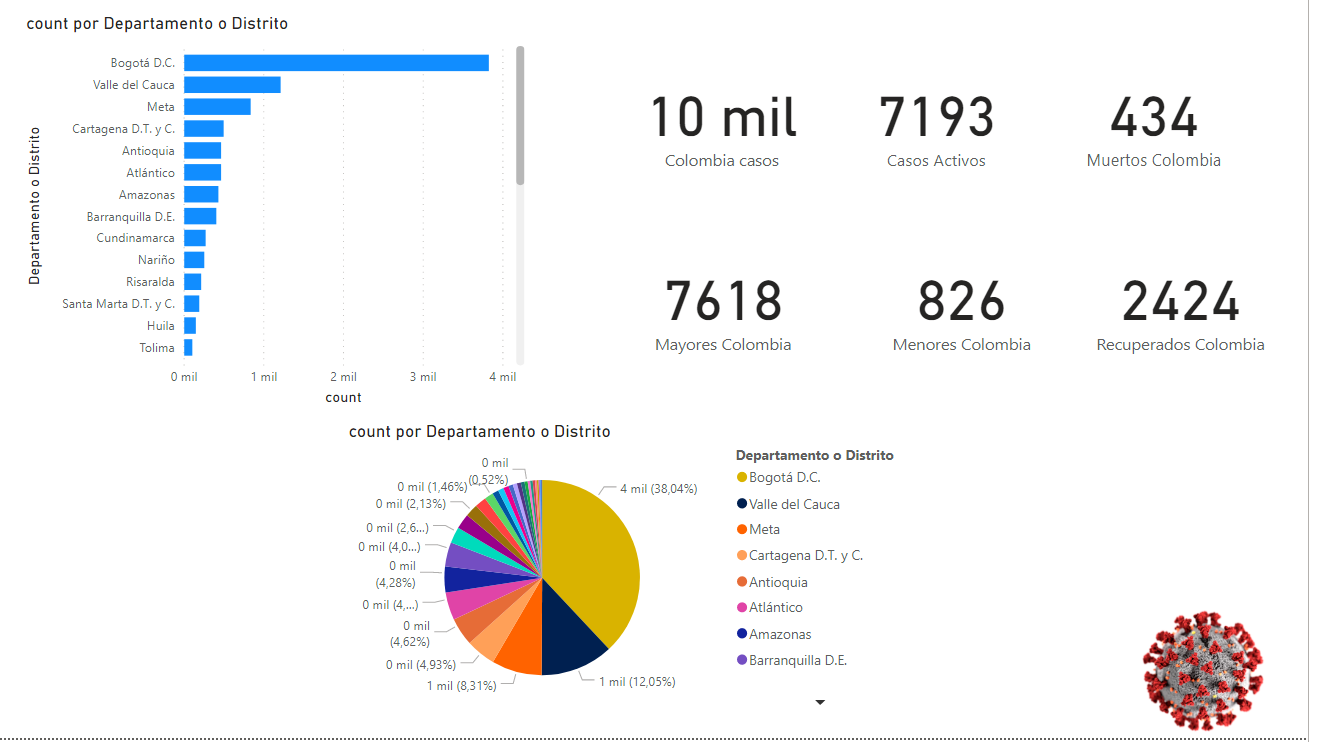

Layout of this report page (visuals, bound fields, positions):
{"tool":"powerbi","page":{"name":"Colombia2","canvas":[1280,720],"ordinal":5},"visuals":[{"type":"barChart","fields":{"Y":["Sum(part-00000-6f44a73a-26a0-45bd-96ed-7d20700f8d72-c000.count)"],"Category":["part-00000-6f44a73a-26a0-45bd-96ed-7d20700f8d72-c000.Departamento o Distrito"]},"box":[29.2,14.6,494.7,386.6],"z":0},{"type":"card","fields":{"Values":["Colombia.Casos Activos"]},"box":[822.9,46.2,193.3,145.9],"z":1000},{"type":"card","fields":{"Values":["Colombia.Colombia casos"]},"box":[609,46.2,203,145.9],"z":2000},{"type":"card","fields":{"Values":["Colombia.Muertos Colombia"]},"box":[982.2,43.8,297.8,149.5],"z":3000},{"type":"card","fields":{"Values":["Colombia.Mayores Colombia"]},"box":[610.2,224.9,203,145.9],"z":4000},{"type":"card","fields":{"Values":["Colombia.Menores Colombia"]},"box":[842.4,224.9,203,145.9],"z":5000},{"type":"card","fields":{"Values":["Colombia.Recuperados Colombia"]},"box":[1055.1,224.9,203,145.9],"z":6000},{"type":"pieChart","fields":{"Category":["part-00000-6f44a73a-26a0-45bd-96ed-7d20700f8d72-c000.Departamento o Distrito"],"Y":["Sum(part-00000-6f44a73a-26a0-45bd-96ed-7d20700f8d72-c000.count)"]},"box":[342.8,410.9,548.2,286.9],"z":7000},{"type":"image","box":[1077,589.6,203,130.1],"z":8000}]}

Visuals, with their boxes in screenshot pixels (x1, y1, x2, y2), scaled from the page's 1280x720 canvas onto the 1318x742 screenshot:
barChart - Sum(part-00000-6f44a73a-26a0-45bd-96ed-7d20700f8d72-c000.count) x part-00000-6f44a73a-26a0-45bd-96ed-7d20700f8d72-c000.Departamento o Distrito: BBox(30, 15, 539, 413)
card - Colombia.Casos Activos: BBox(847, 48, 1046, 198)
card - Colombia.Colombia casos: BBox(627, 48, 836, 198)
card - Colombia.Muertos Colombia: BBox(1011, 45, 1317, 199)
card - Colombia.Mayores Colombia: BBox(628, 232, 837, 382)
card - Colombia.Menores Colombia: BBox(867, 232, 1076, 382)
card - Colombia.Recuperados Colombia: BBox(1086, 232, 1295, 382)
pieChart - part-00000-6f44a73a-26a0-45bd-96ed-7d20700f8d72-c000.Departamento o Distrito x Sum(part-00000-6f44a73a-26a0-45bd-96ed-7d20700f8d72-c000.count): BBox(353, 423, 917, 719)
image: BBox(1109, 608, 1317, 741)
